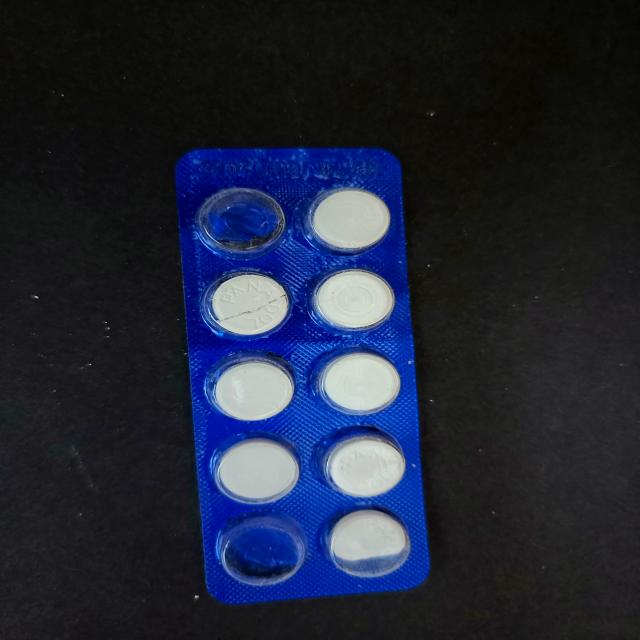defect: (213, 512, 310, 588), (321, 506, 414, 582), (200, 270, 294, 344), (195, 186, 288, 260)
